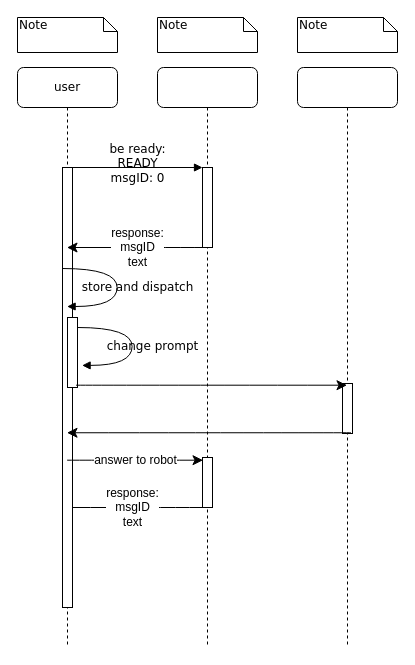
Image size: 415x665. Some labels were removed from this diagram. The box of each missing label's shape, as (x1, y1, x2, y2) in pixels:
AI: (296, 66, 398, 648)
robot: (156, 66, 258, 648)
